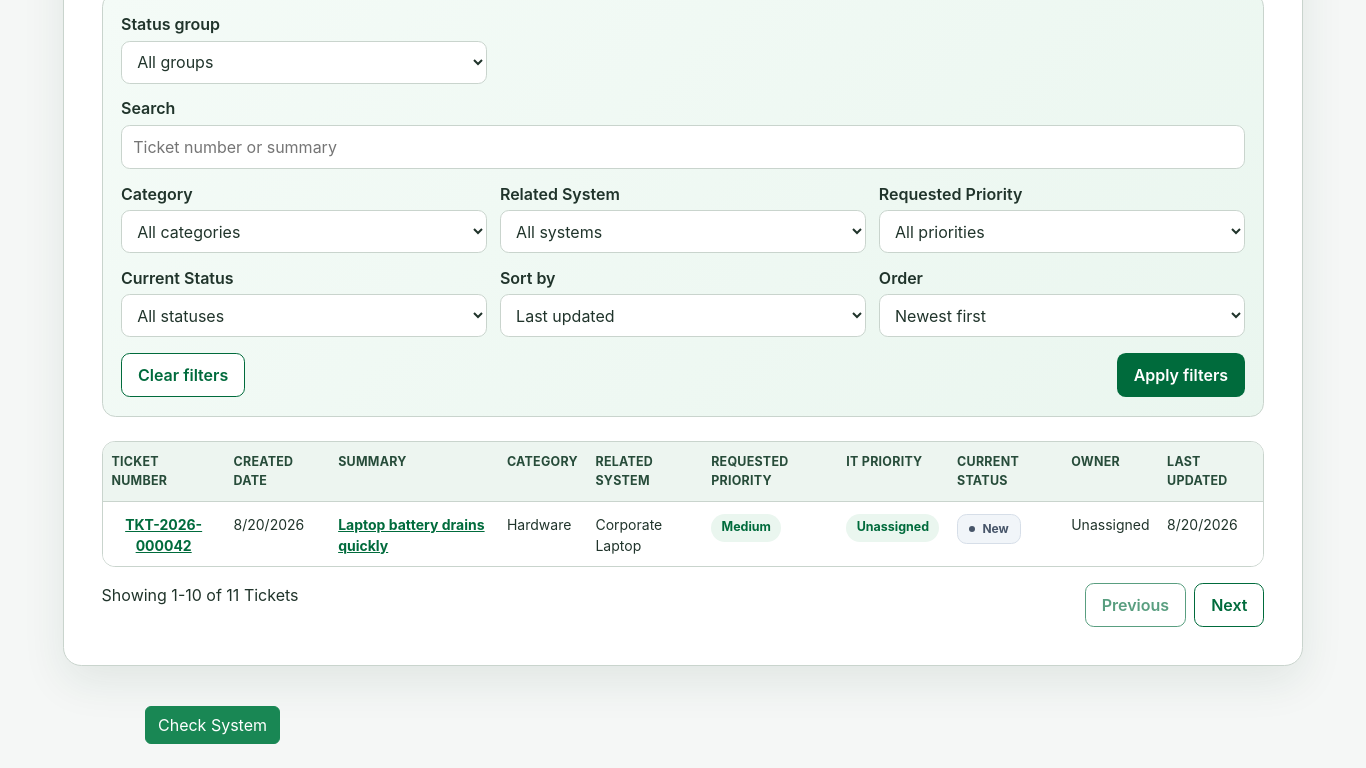
My Tickets › uses server-backed next and previous pagination controls
The width and height of the screenshot is (1366, 768).
(page scrolled)
Click the button "Next" at point(1229, 605), box [1194,583,1264,627]
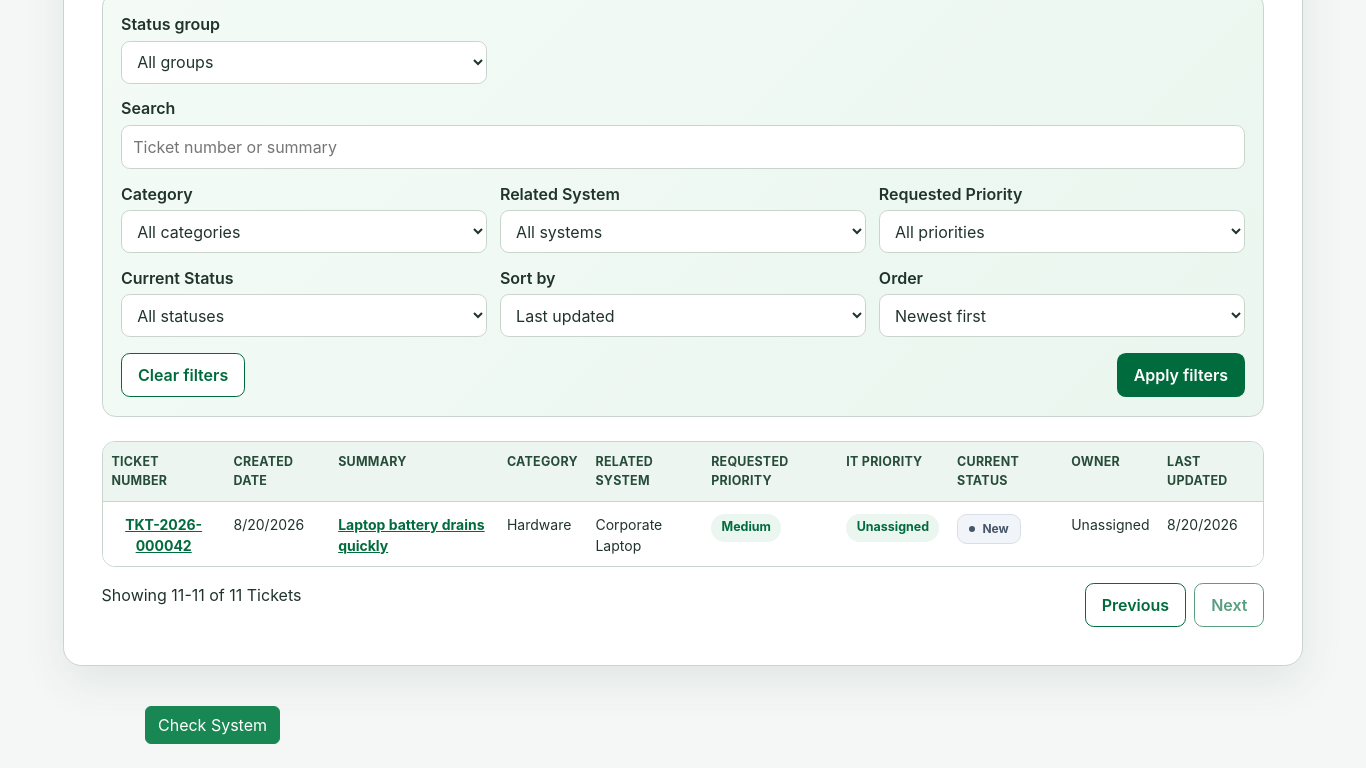
Check: the text "Showing 11-11 of 11 Tickets" is shown, box [102,585,301,605]
Check: the button "Previous" is enabled, box [1085,583,1186,627]
Check: the button "Next" is disabled, box [1194,583,1264,627]
